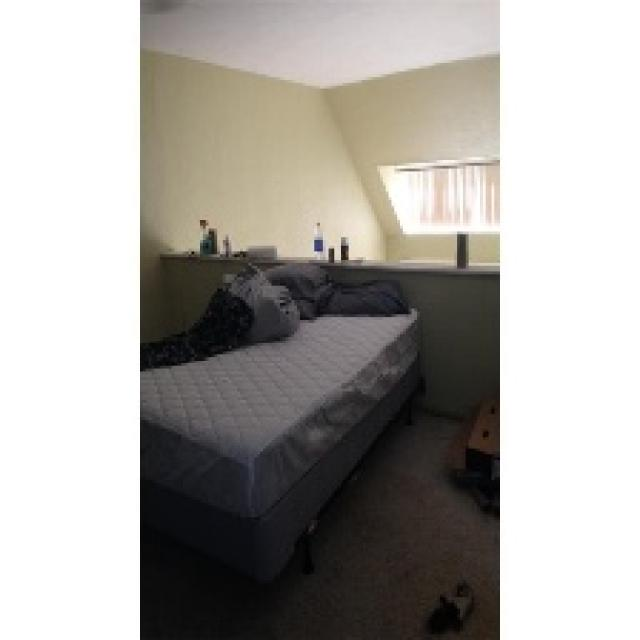Bed: (137, 303, 423, 583)
